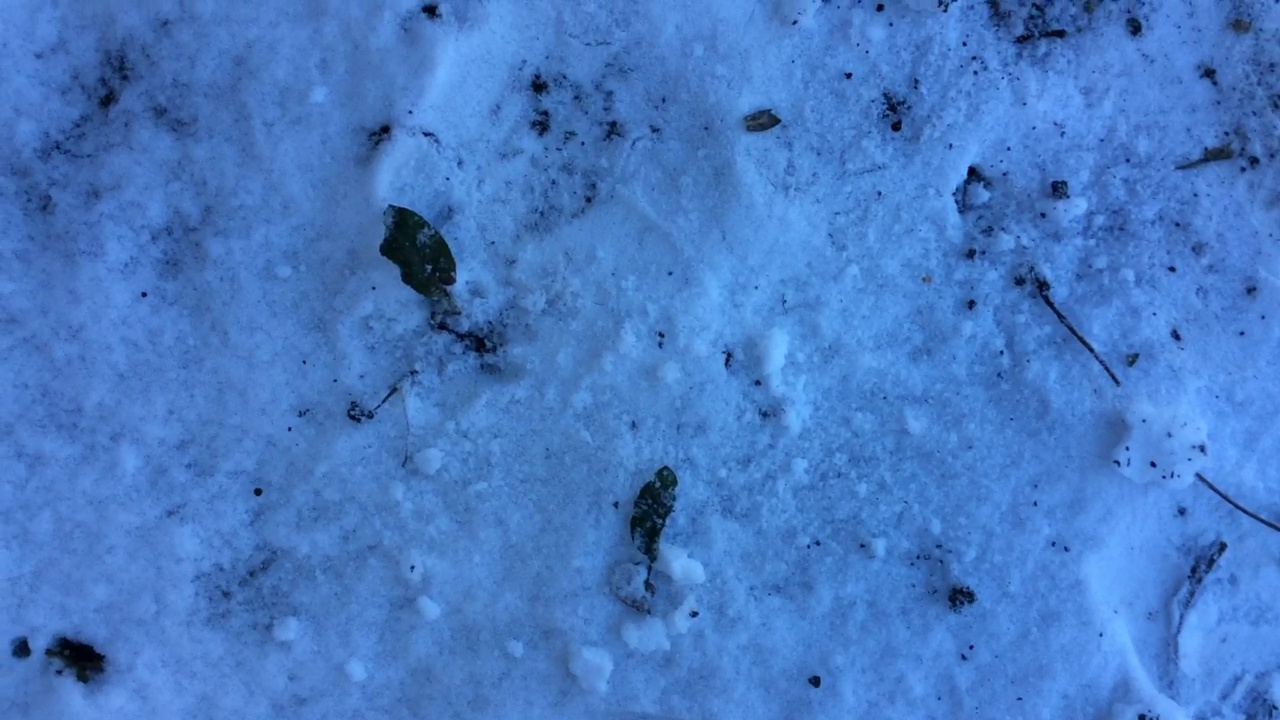root: (425, 301, 471, 343), (627, 575, 673, 615)
rumex: (376, 200, 470, 343), (618, 461, 688, 620)
